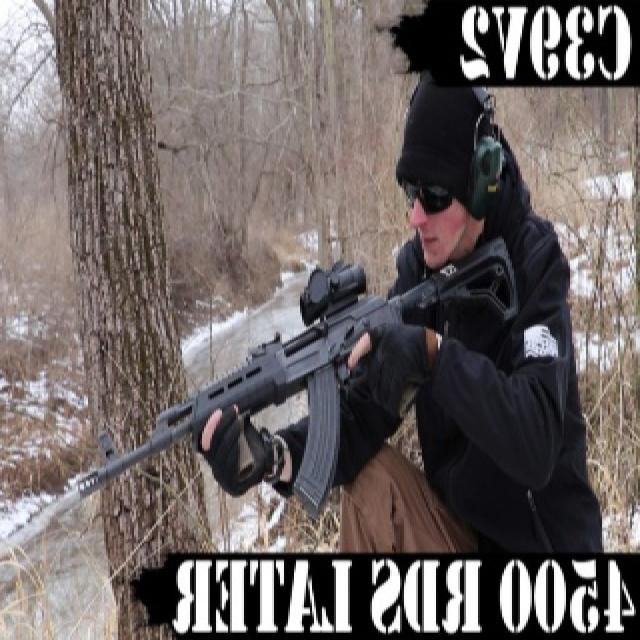rifle: (53, 226, 539, 514)
